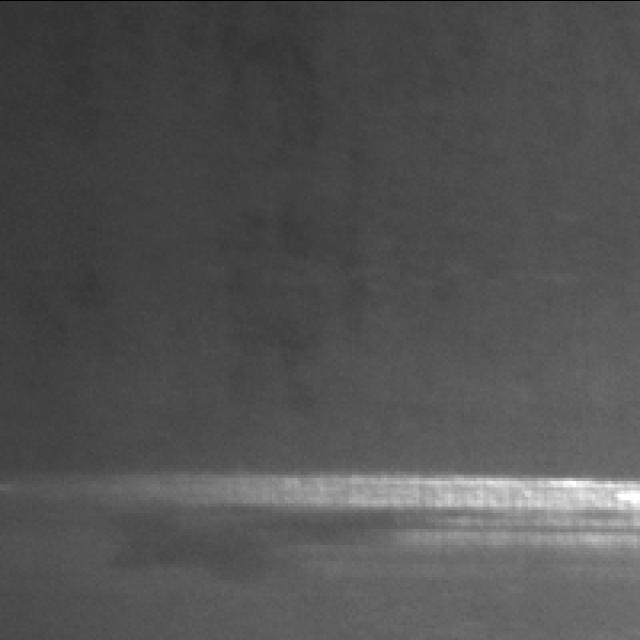scratches: (0, 474, 640, 528)
